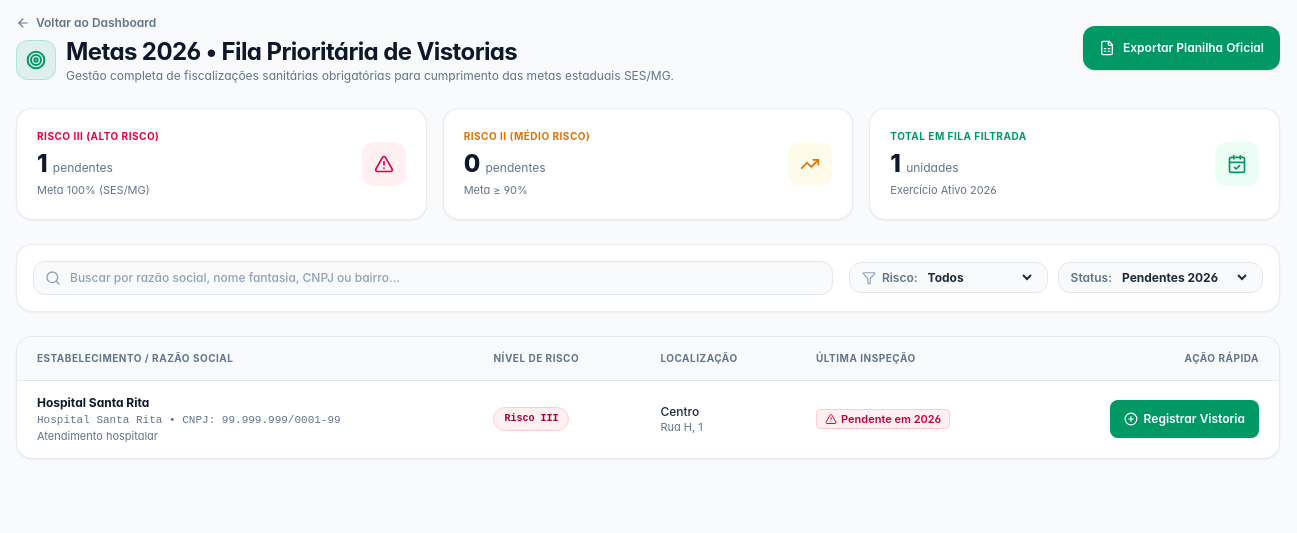
FilaMetasPage - Unit Tests › filtra estabelecimentos pelo campo de busca
Type "Inexistente" into the field with placeholder "Buscar por razão social, nome fantasia, CNPJ ou bairro..." at (433,278), box [33, 260, 833, 294]
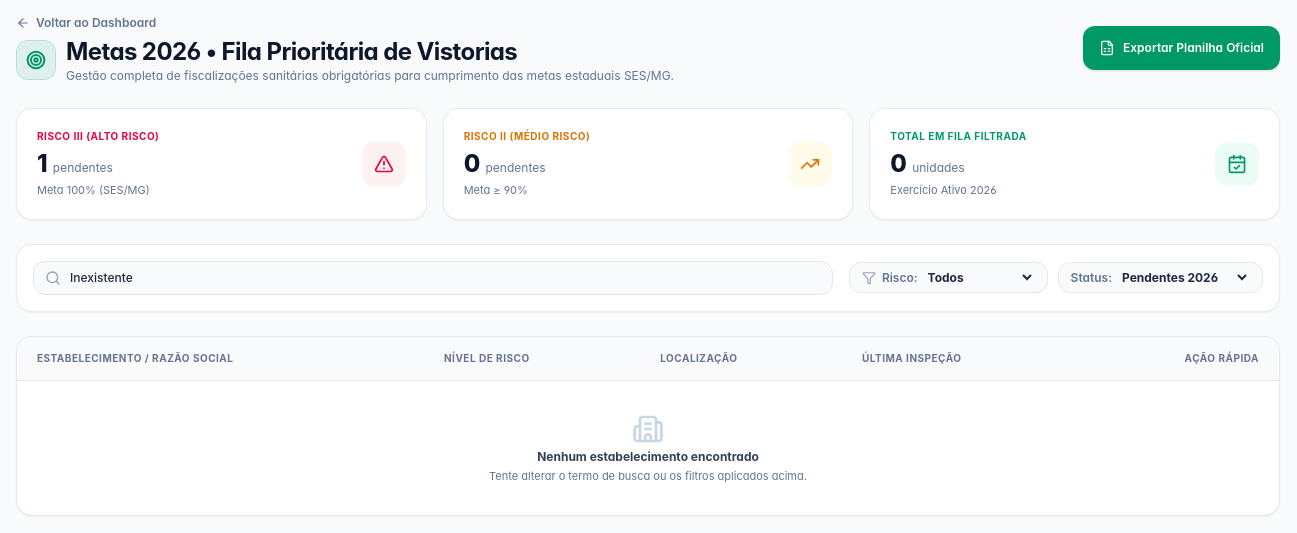
Result: the text "Nenhum estabelecimento encontrado" is shown at [537, 448, 759, 464]
